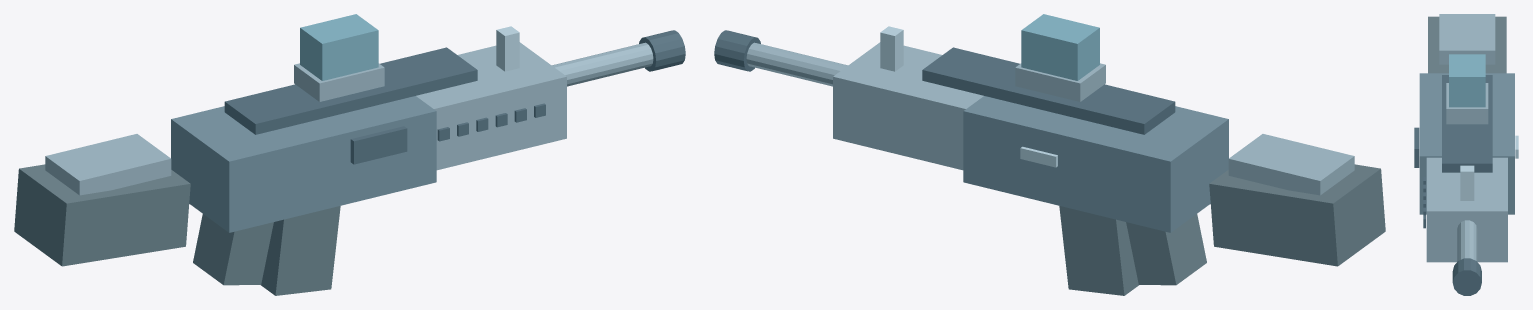
File: classic-rifle.glb
3 renders of one model, left to right at view 1: azimuth 30°, elevation 25°; view 2: azimuth 150°, elevation 25°; view 3: azimuth 270°, elevation 25°, orthographic. The views are drawn at different scales.
Visible parts, largest first — view 1: RECEIVER, BUTTSTOCK, HANDGUARD, TOP_RAIL, MAGAZINE, STOCK_CHEEK, OPTIC_BODY, PISTOL_GRIP, BARREL, OPTIC_BASE, EJECTION_PORT, FLASH_HIDER (+1 smaller); view 2: RECEIVER, BUTTSTOCK, HANDGUARD, TOP_RAIL, MAGAZINE, STOCK_CHEEK, OPTIC_BODY, PISTOL_GRIP, BARREL, OPTIC_BASE, FLASH_HIDER, FRONT_SIGHT (+1 smaller); view 3: HANDGUARD, RECEIVER, TOP_RAIL, STOCK_CHEEK, OPTIC_BODY, BUTTSTOCK, FLASH_HIDER, OPTIC_BASE, BARREL, FRONT_SIGHT, EJECTION_PORT, CLASSIC_STAMP.
Boxes of the visible parts, x1=… form: RECEIVER: x1=171, y1=96, x2=436, y2=232; BUTTSTOCK: x1=14, y1=164, x2=190, y2=266; HANDGUARD: x1=416, y1=42, x2=566, y2=170; TOP_RAIL: x1=224, y1=47, x2=477, y2=134; MAGAZINE: x1=261, y1=206, x2=340, y2=295; STOCK_CHEEK: x1=45, y1=134, x2=171, y2=195; OPTIC_BODY: x1=300, y1=14, x2=378, y2=80; PISTOL_GRIP: x1=193, y1=214, x2=273, y2=285; BARREL: x1=552, y1=42, x2=653, y2=86; OPTIC_BASE: x1=294, y1=63, x2=384, y2=101; EJECTION_PORT: x1=350, y1=126, x2=407, y2=164; FLASH_HIDER: x1=639, y1=30, x2=685, y2=71; RECEIVER: x1=963, y1=96, x2=1228, y2=232; BUTTSTOCK: x1=1209, y1=164, x2=1385, y2=266; HANDGUARD: x1=833, y1=42, x2=983, y2=170; TOP_RAIL: x1=922, y1=47, x2=1175, y2=134; MAGAZINE: x1=1059, y1=206, x2=1138, y2=295; STOCK_CHEEK: x1=1228, y1=134, x2=1354, y2=195; OPTIC_BODY: x1=1021, y1=14, x2=1099, y2=80; PISTOL_GRIP: x1=1126, y1=214, x2=1206, y2=285; BARREL: x1=746, y1=42, x2=847, y2=86; OPTIC_BASE: x1=1015, y1=63, x2=1105, y2=101; FLASH_HIDER: x1=714, y1=30, x2=760, y2=71; FRONT_SIGHT: x1=880, y1=26, x2=903, y2=71; HANDGUARD: x1=1426, y1=157, x2=1507, y2=262; RECEIVER: x1=1419, y1=73, x2=1514, y2=214; TOP_RAIL: x1=1442, y1=75, x2=1492, y2=172; STOCK_CHEEK: x1=1439, y1=14, x2=1495, y2=64; OPTIC_BODY: x1=1449, y1=54, x2=1485, y2=107; BUTTSTOCK: x1=1428, y1=16, x2=1506, y2=73; FLASH_HIDER: x1=1452, y1=258, x2=1481, y2=295; OPTIC_BASE: x1=1446, y1=83, x2=1488, y2=124; BARREL: x1=1457, y1=220, x2=1477, y2=261; FRONT_SIGHT: x1=1460, y1=165, x2=1474, y2=200; EJECTION_PORT: x1=1414, y1=127, x2=1419, y2=167; CLASSIC_STAMP: x1=1515, y1=135, x2=1518, y2=158.
Size of the model in its own units: 2.16 by 0.7802 by 0.372.
